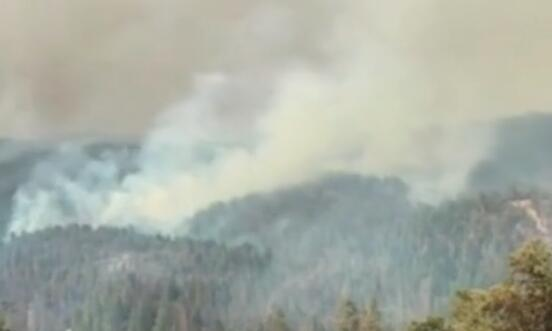yanwu: (0, 2, 538, 324)
